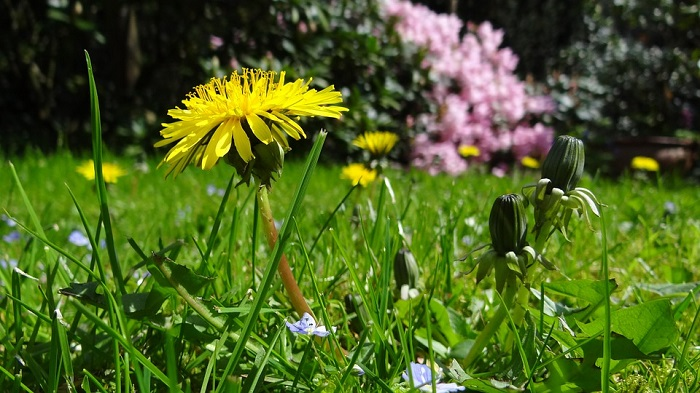dandelion: (146, 78, 332, 140)
